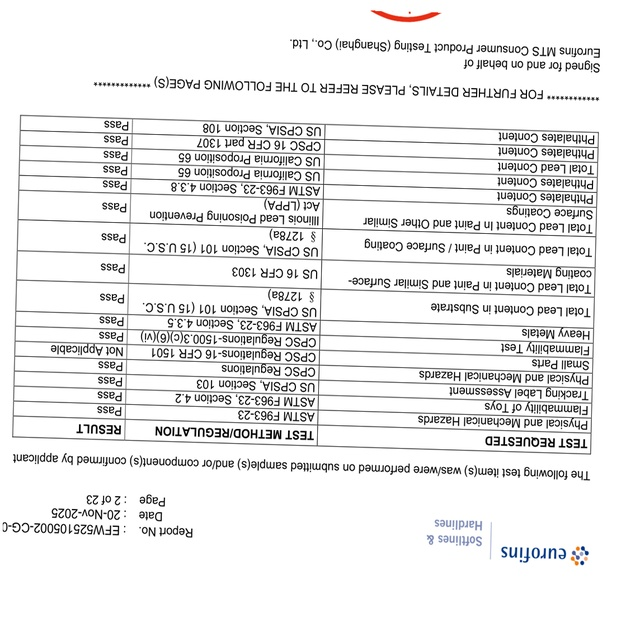eurofins: (498, 540, 597, 571)
